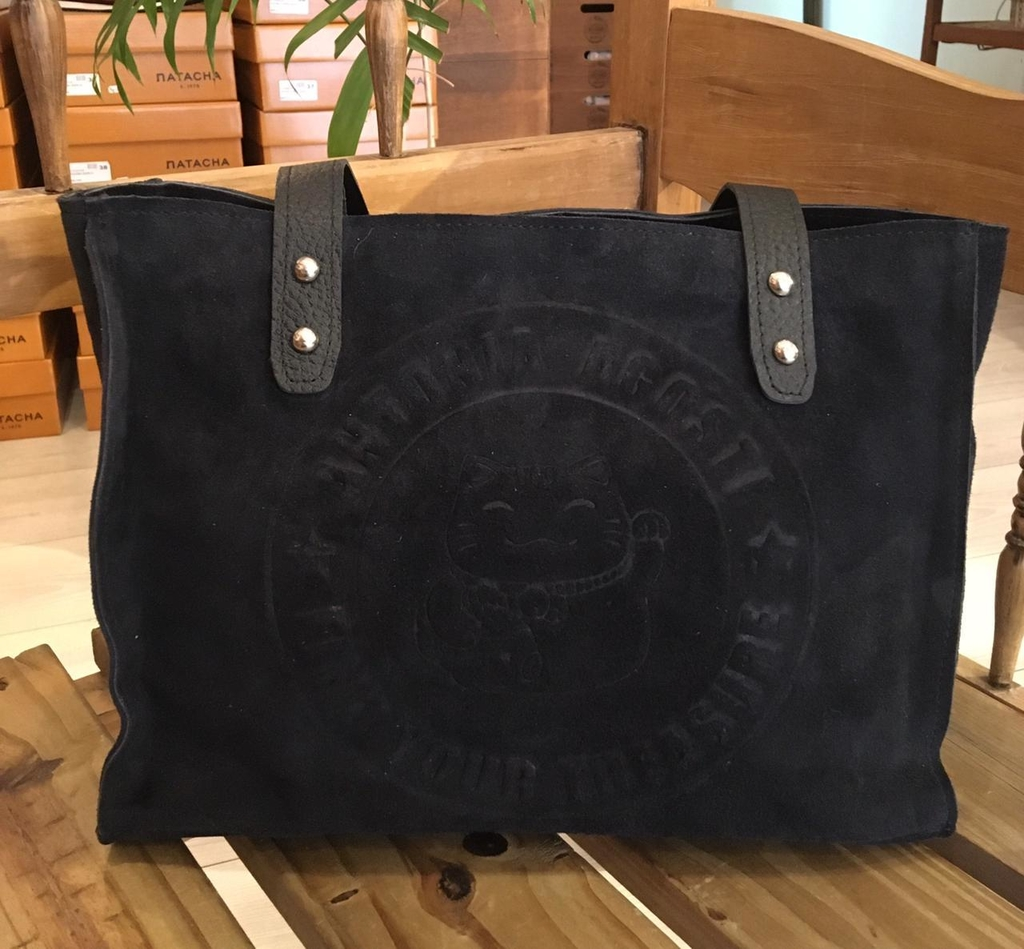cartera: (59, 163, 959, 847)
gamuza: (83, 219, 933, 821)
